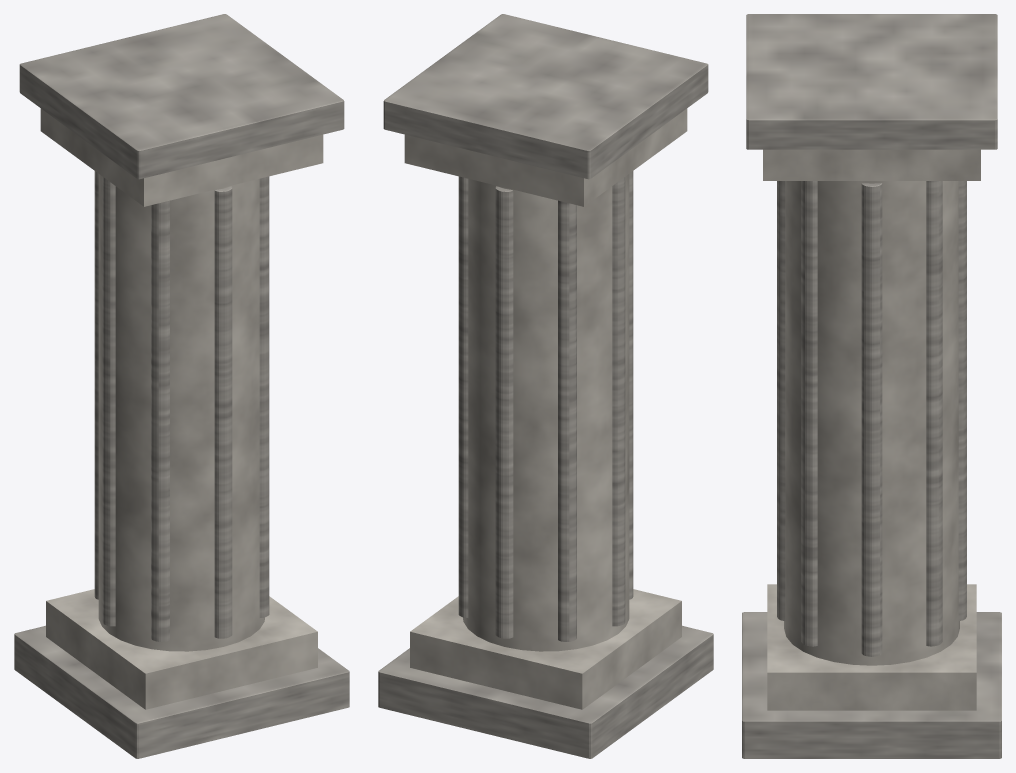
File: pillar.glb
3 renders of one model, left to right at view 1: azimuth 30°, elevation 25°; view 2: azimuth 150°, elevation 25°; view 3: azimuth 270°, elevation 25°, orthographic. The views are drawn at different scales.
Visible parts, largest first — view 1: pi_plinth, pi_shaft; view 2: pi_plinth, pi_shaft; view 3: pi_plinth, pi_shaft.
Part boxes in pixels (box(x1,y1,x2,y2)): pi_plinth: box(14, 14, 349, 758); pi_shaft: box(40, 108, 323, 709); pi_plinth: box(378, 14, 713, 758); pi_shaft: box(404, 108, 687, 709); pi_plinth: box(742, 14, 1001, 758); pi_shaft: box(763, 149, 980, 710).
Size of the model in its own units: 0.62 by 1.68 by 0.62.
Materials: 2 (2 with a texture image).
